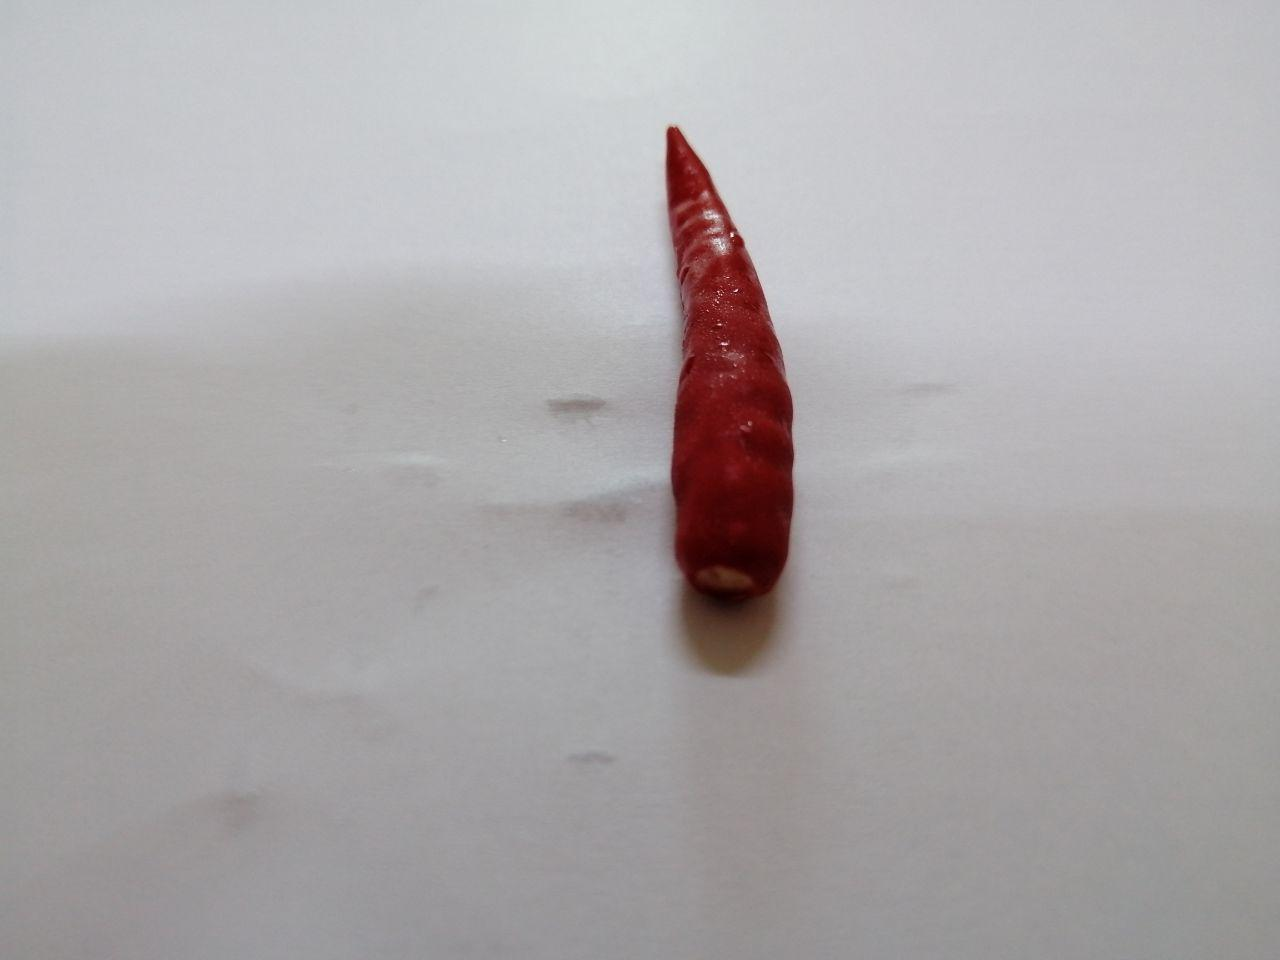lada merah: (609, 96, 822, 625)
